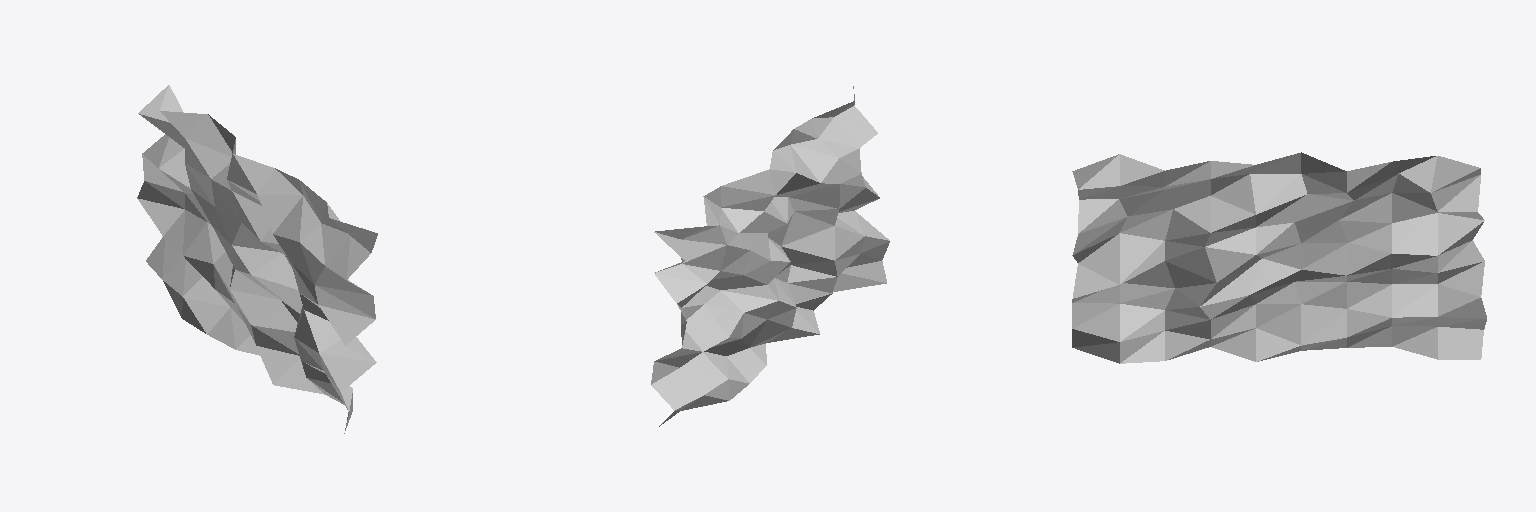
Rendered from connector2A(F81).obj.
The picture shows the model from 3 angles: view 1: azimuth 30°, elevation 25°; view 2: azimuth 150°, elevation 25°; view 3: azimuth 270°, elevation 25°; orthographic projection.
Visible parts, largest first — view 1: Plane.001; view 2: Plane.001; view 3: Plane.001.
Part boxes in pixels (left/top/right/bottom): Plane.001: left=137, top=85, right=377, bottom=433; Plane.001: left=651, top=86, right=889, bottom=426; Plane.001: left=1072, top=152, right=1486, bottom=363.
Size of the model in its own units: 3.01 by 15.22 by 28.78.